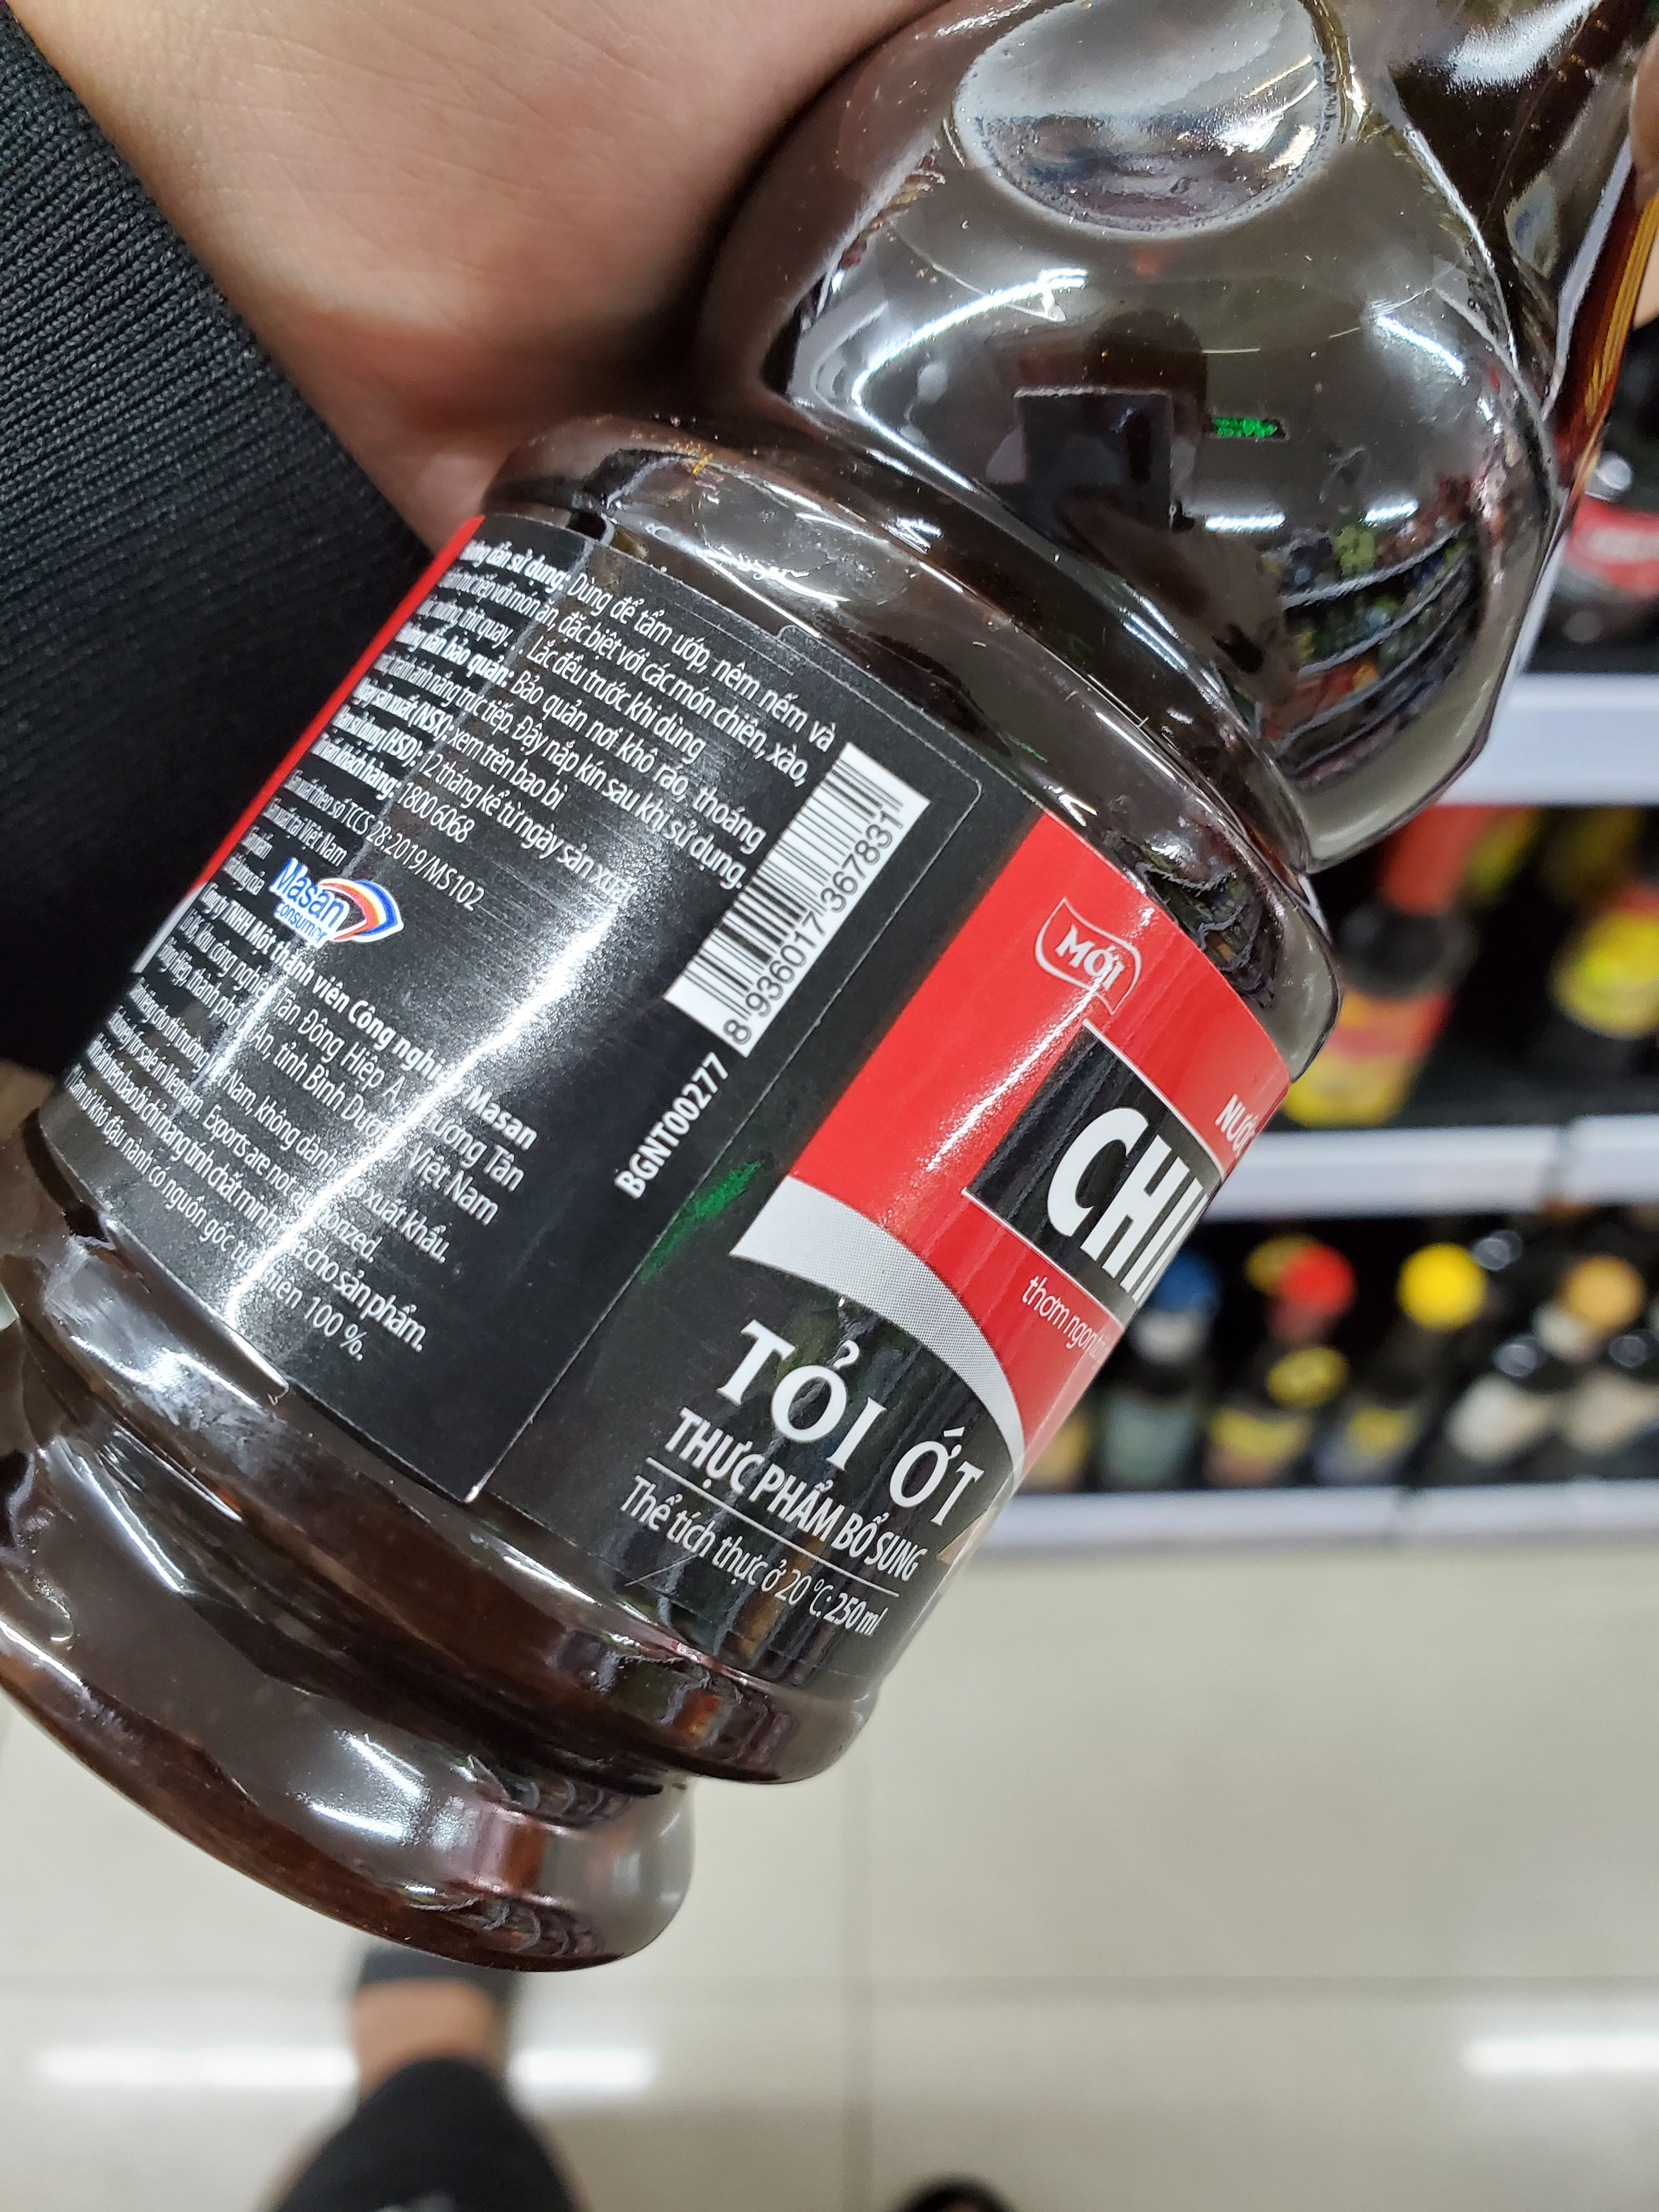barcode: (666, 740, 936, 1069)
